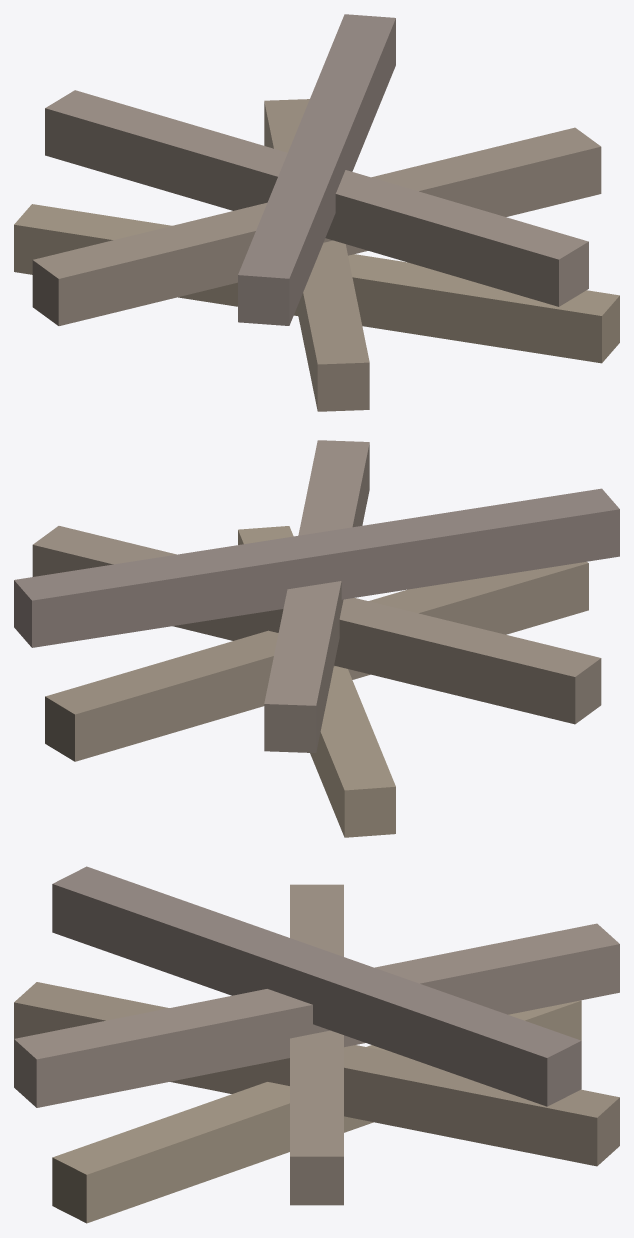
Rendered from branches_ash.glb.
The picture shows the model from 3 angles, top to bottom: view 1: azimuth 30°, elevation 25°; view 2: azimuth 150°, elevation 25°; view 3: azimuth 270°, elevation 25°; orthographic projection. The views are drawn at different scales.
Parts seen in each view (by area): view 1: ../props/branches_ash; view 2: ../props/branches_ash; view 3: ../props/branches_ash.
Part boxes in pixels (bbox=[...]): ../props/branches_ash: bbox=[14, 14, 619, 411]; ../props/branches_ash: bbox=[14, 440, 619, 837]; ../props/branches_ash: bbox=[14, 866, 619, 1223].
Bounding box in the file's own units: 0.6 × 0.17 × 0.5646.
